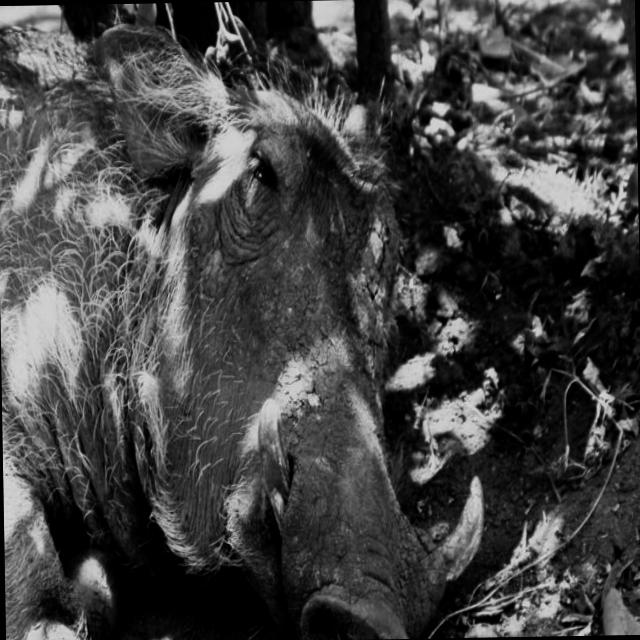pig: (0, 28, 483, 640)
